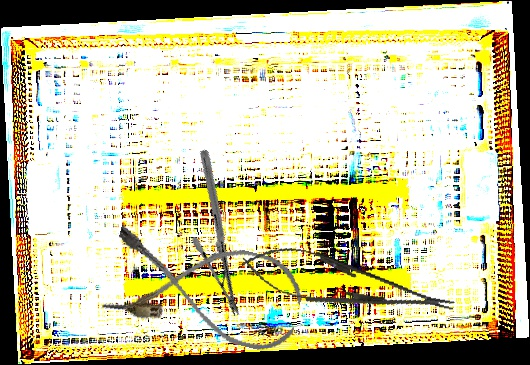Cannula: (100, 220, 310, 357)
Needle Holder: (138, 147, 302, 319), (237, 237, 459, 332)
